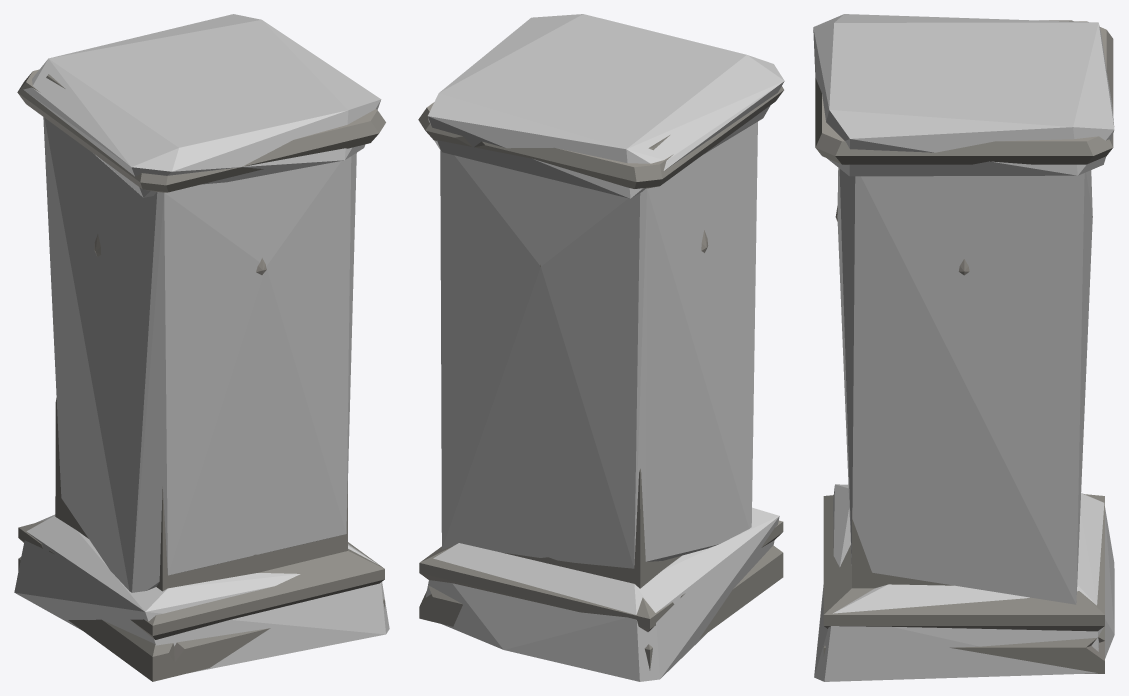
Rendered from SM_Prop_Statue_Plinth_02.fbx.
The picture shows the model from 3 angles, left to right: view 1: azimuth 30°, elevation 25°; view 2: azimuth 150°, elevation 25°; view 3: azimuth 270°, elevation 25°; orthographic projection. The views are drawn at different scales.
Parts seen in each view (by area): view 1: SM_Prop_Statue_Plinth_02_ConvexHulls, SM_Prop_Statue_Plinth_02; view 2: SM_Prop_Statue_Plinth_02_ConvexHulls, SM_Prop_Statue_Plinth_02; view 3: SM_Prop_Statue_Plinth_02_ConvexHulls, SM_Prop_Statue_Plinth_02.
Boxes of the visible parts, x1,y1,x2,y2 form: SM_Prop_Statue_Plinth_02_ConvexHulls: [14, 14, 389, 672]; SM_Prop_Statue_Plinth_02: [17, 69, 385, 681]; SM_Prop_Statue_Plinth_02_ConvexHulls: [425, 14, 784, 681]; SM_Prop_Statue_Plinth_02: [418, 86, 783, 670]; SM_Prop_Statue_Plinth_02_ConvexHulls: [813, 14, 1114, 681]; SM_Prop_Statue_Plinth_02: [815, 20, 1113, 673].
Bounding box in the file's own units: 67.68 × 66.67 × 135.
Materials: 2 (1 with a texture image).
